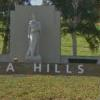Statue: (8, 10, 73, 76)
